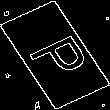P_NE: (18, 27, 92, 83)
